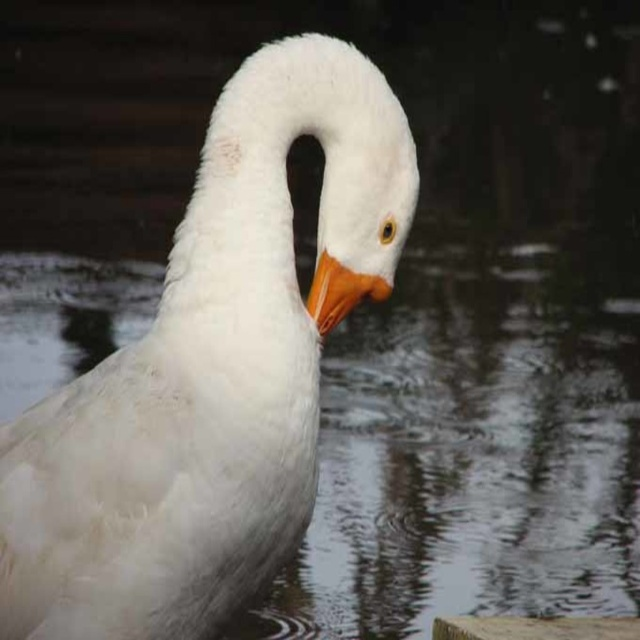Goose: (0, 25, 421, 640)
